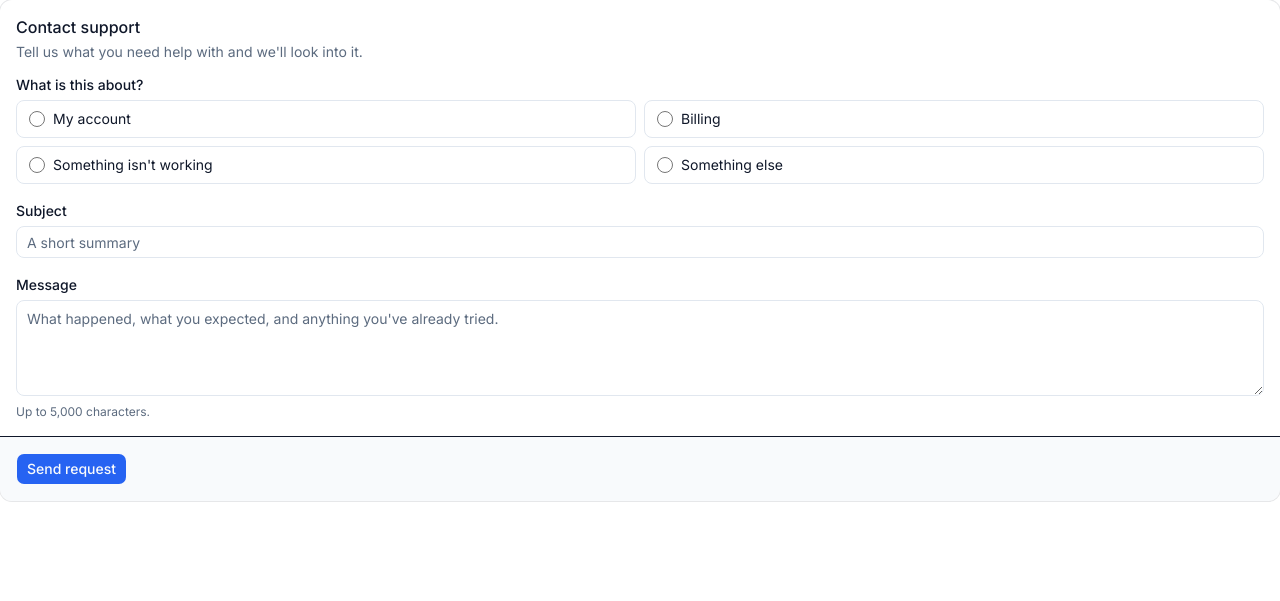
Test case: failures after validation › keeps the draft when the session is gone, without contacting the database
Click the radio button labelled "Something isn't working" at (37, 165), box left=29, top=157, right=45, bottom=173
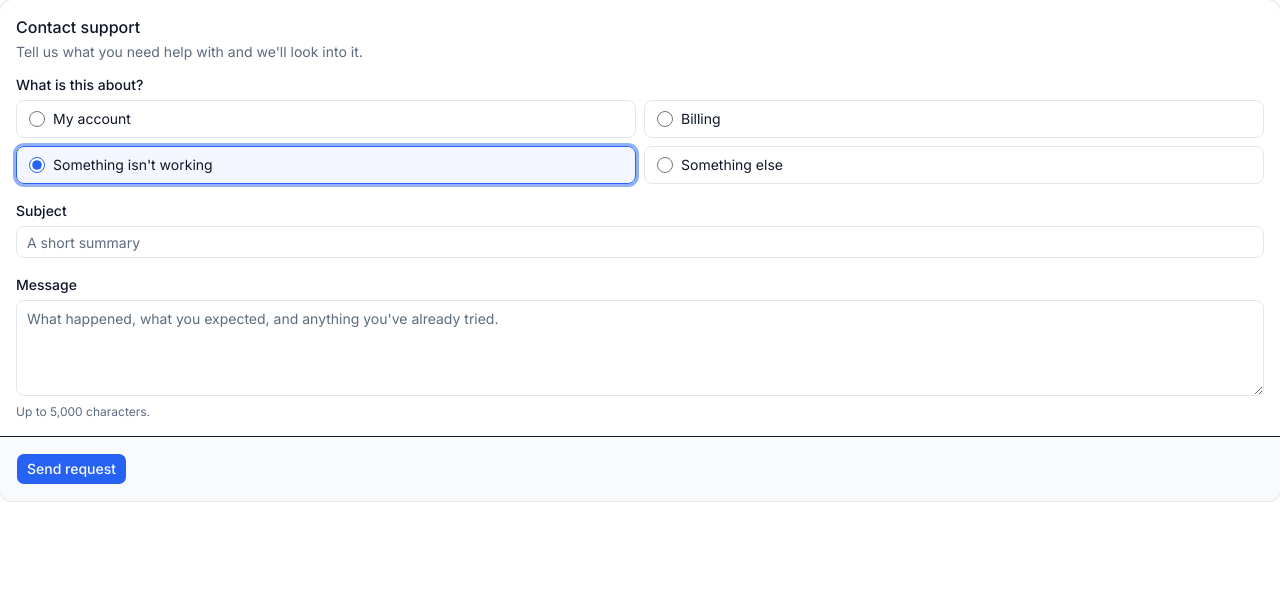
Type "  Export stuck " into the field labelled "Subject" at (640, 242), box left=16, top=226, right=1264, bottom=258
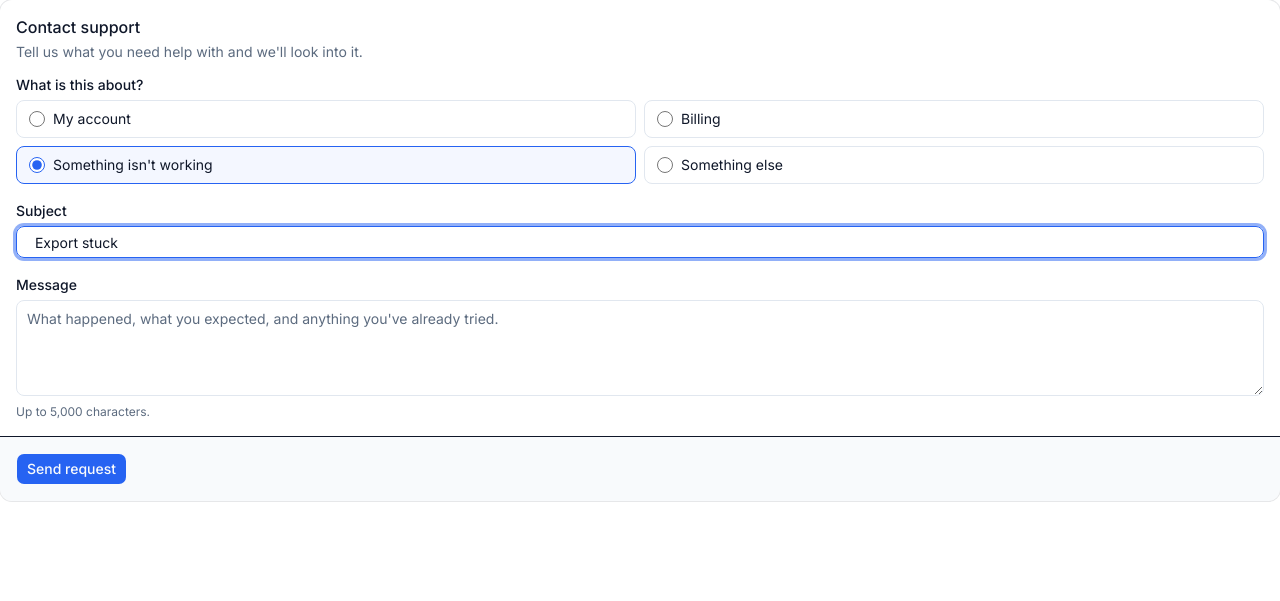
Type "Since 9am." into the text box labelled "Message" at (640, 348), box left=16, top=300, right=1264, bottom=396
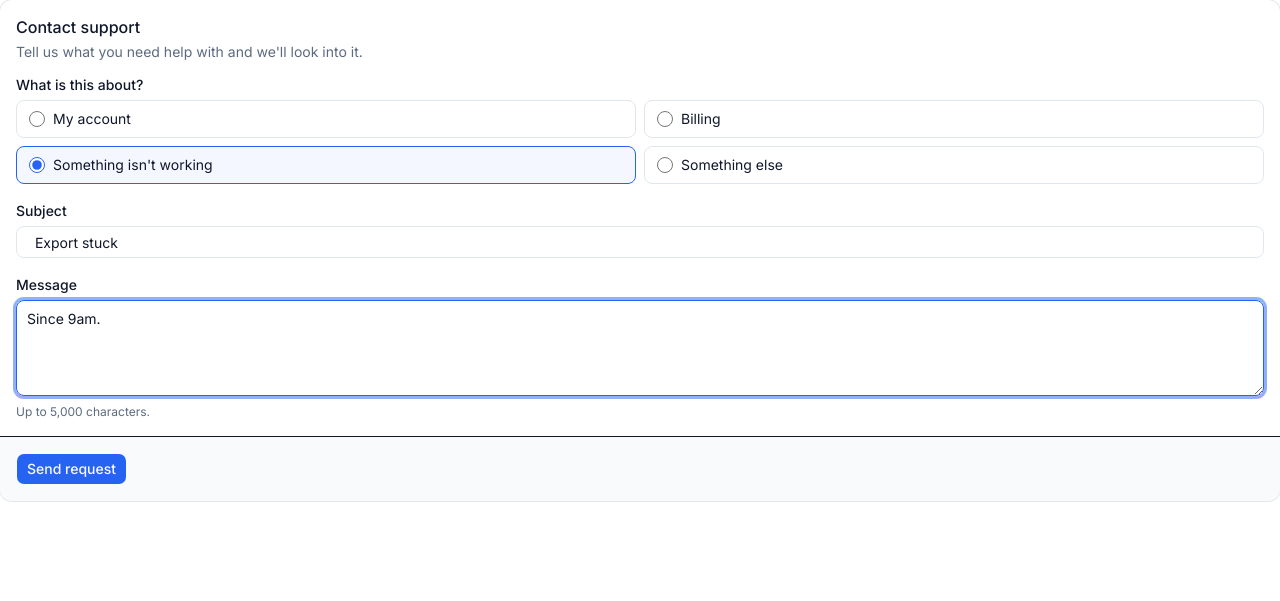
Click the button "Send request" at (72, 469), box left=16, top=453, right=127, bottom=485
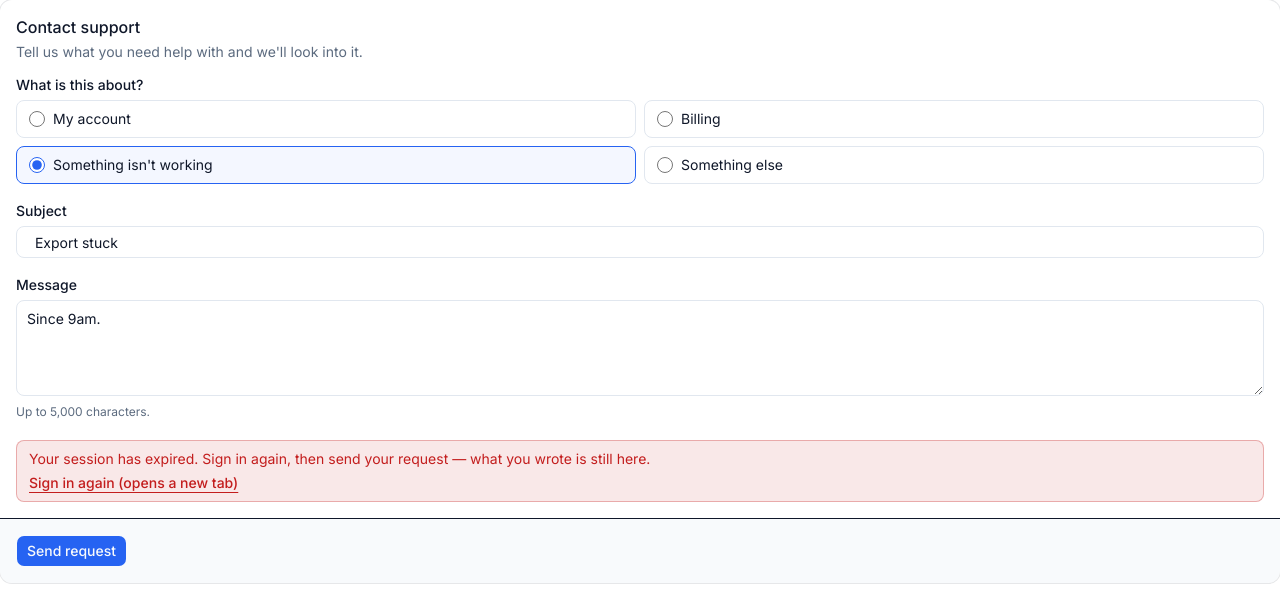
expect the radio button labelled "Something isn't working" is checked: met, box left=29, top=157, right=45, bottom=173
expect the message shows "Your session has expired. Sign in again, then send your request — what you wrote is still here.": met, box left=29, top=450, right=650, bottom=467
